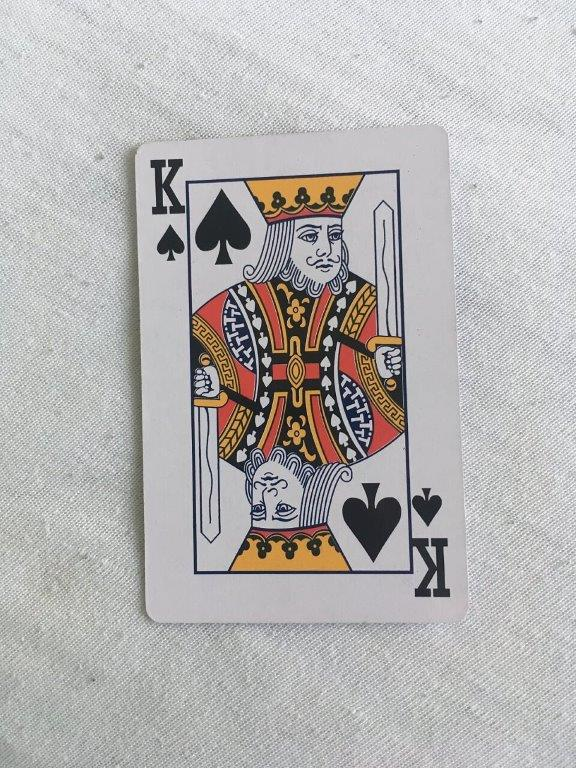KS: (129, 123, 473, 629)
